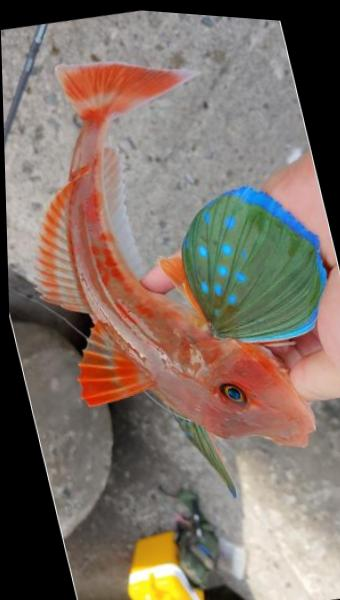fish: (33, 58, 325, 493)
